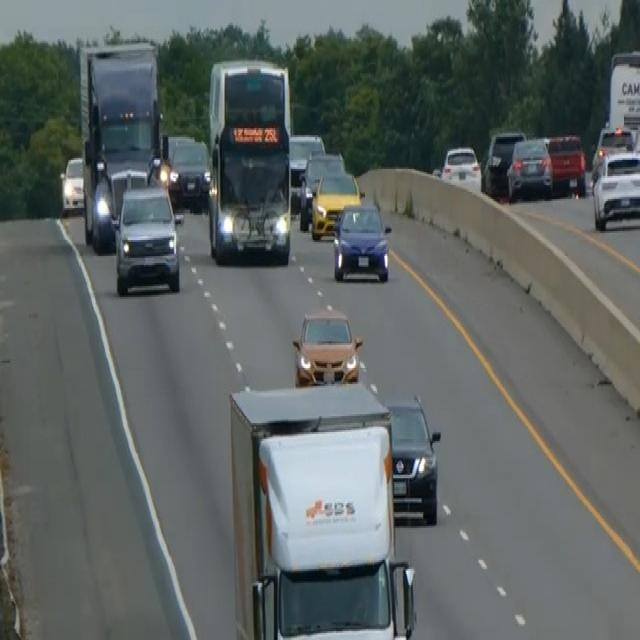bus: (206, 55, 293, 265)
car: (384, 391, 441, 525), (291, 304, 363, 386), (331, 199, 392, 283), (591, 148, 639, 231), (298, 150, 345, 230), (310, 169, 361, 240), (507, 135, 553, 201), (169, 137, 210, 210), (288, 132, 325, 212), (482, 128, 525, 196), (546, 132, 586, 196), (591, 123, 634, 174), (441, 142, 481, 190), (59, 155, 84, 215)
jeep: (111, 181, 183, 297)
lorry: (227, 379, 417, 638), (77, 37, 164, 249)
